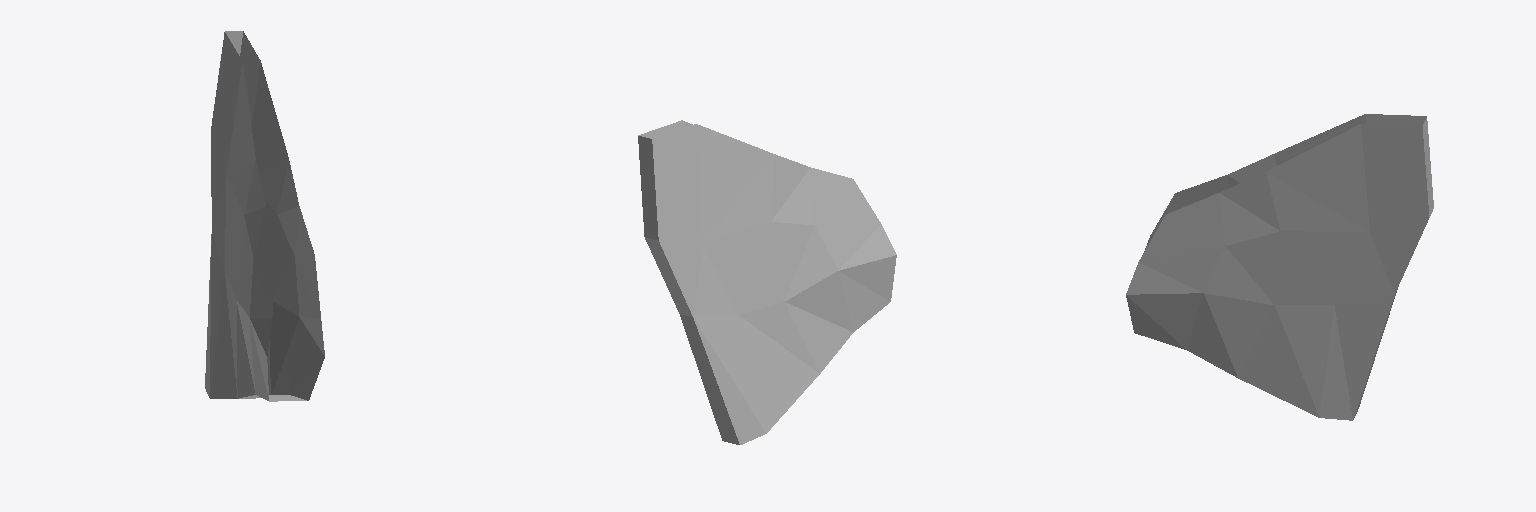
The model's file is cola.obj.
3 views of the same model, side by side, from view 1: azimuth 30°, elevation 25°; view 2: azimuth 150°, elevation 25°; view 3: azimuth 270°, elevation 25° (orthographic).
Parts seen in each view (by area): view 1: polySurface1 TropicalFish02:TropicalFish02; view 2: polySurface1 TropicalFish02:TropicalFish02; view 3: polySurface1 TropicalFish02:TropicalFish02.
Boxes of the visible parts, box(x1,y1,x2,y2) form: polySurface1 TropicalFish02:TropicalFish02: box(205, 31, 324, 401); polySurface1 TropicalFish02:TropicalFish02: box(638, 120, 896, 444); polySurface1 TropicalFish02:TropicalFish02: box(1126, 114, 1433, 420).
Size of the model in its own units: 0.2742 by 0.7154 by 0.6224.